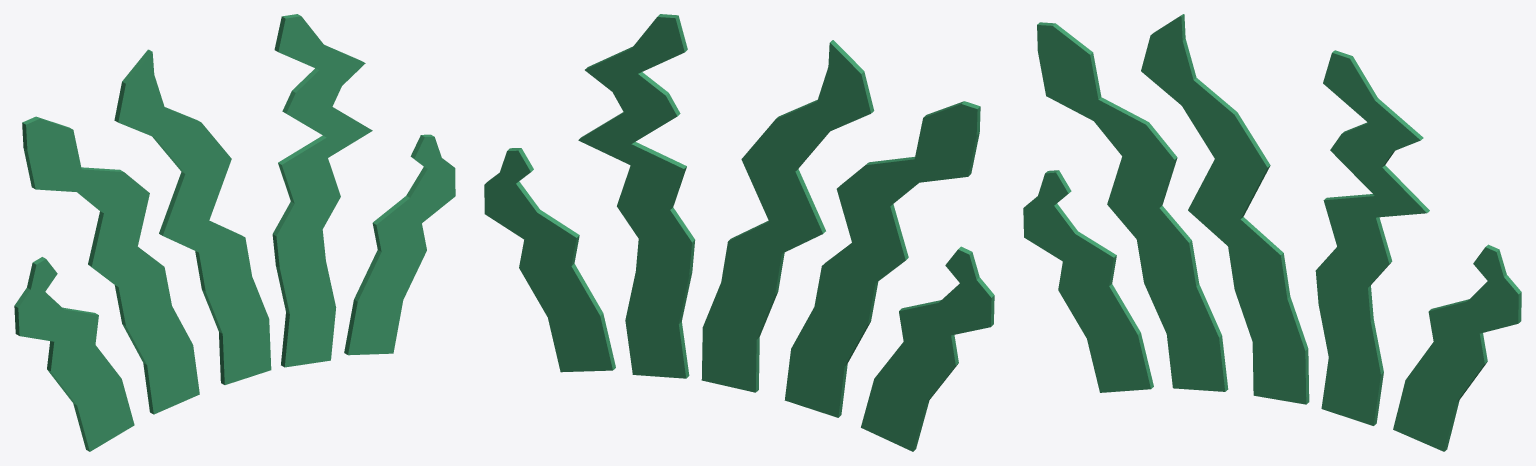
3 views of the same model, side by side, from view 1: azimuth 30°, elevation 25°; view 2: azimuth 150°, elevation 25°; view 3: azimuth 330°, elevation 25° (orthographic). The views are drawn at different scales.
Visible parts, largest first — view 1: Plane.005; view 2: Plane.005; view 3: Plane.005.
Part boxes in pixels (<box>): Plane.005: <box>14,14,455,451</box>; Plane.005: <box>484,14,994,451</box>; Plane.005: <box>1023,14,1521,451</box>.
Size of the model in its own units: 1.07 by 0.838 by 0.1046.
